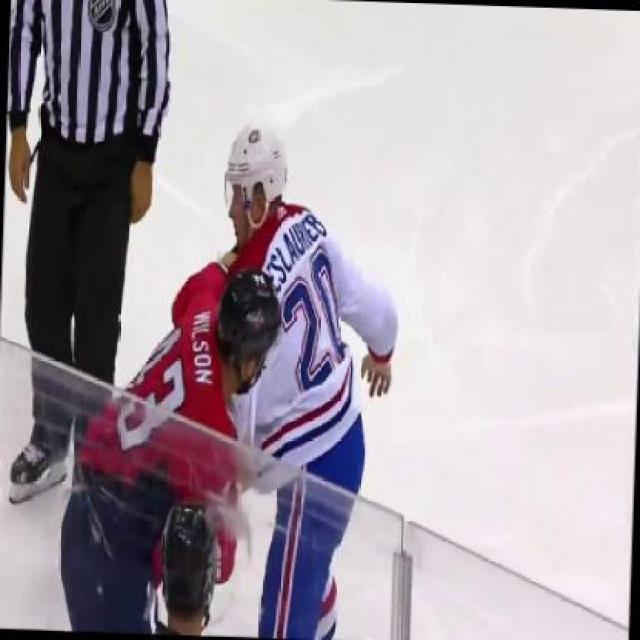fight: (57, 111, 411, 638)
